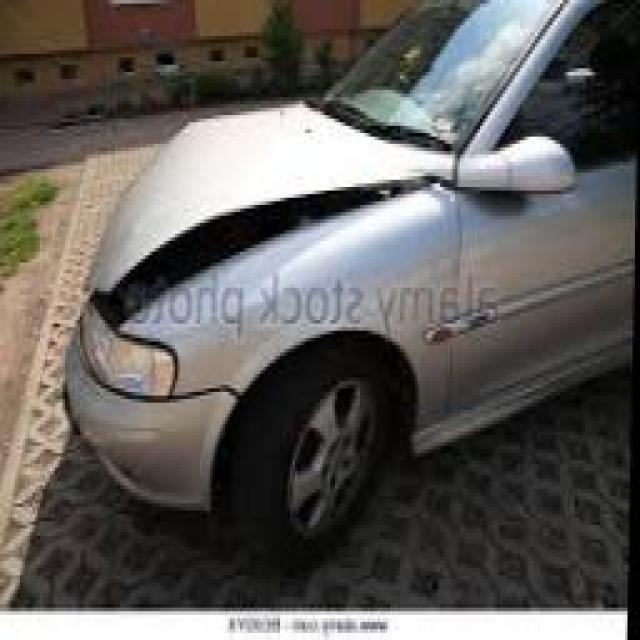Bonnet: (83, 95, 455, 331)
